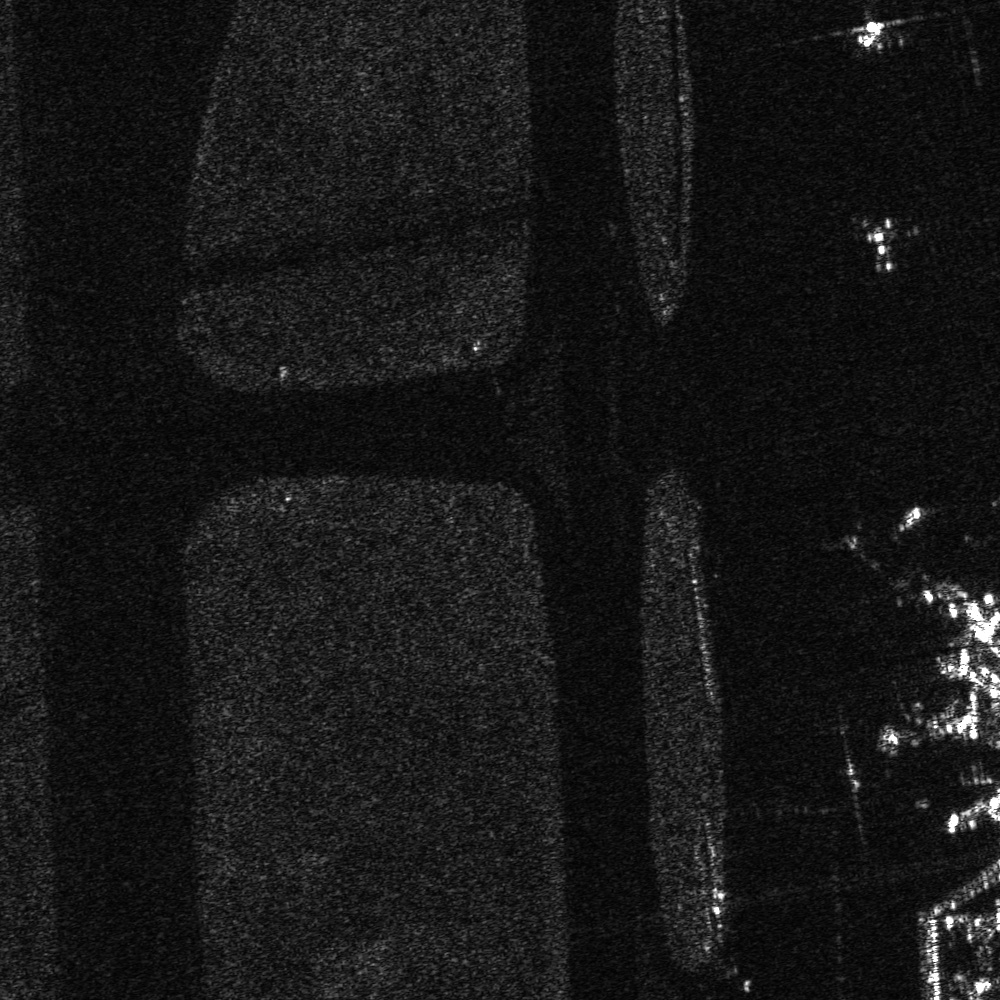ARJ21: (847, 209, 925, 280), (840, 8, 900, 60)
